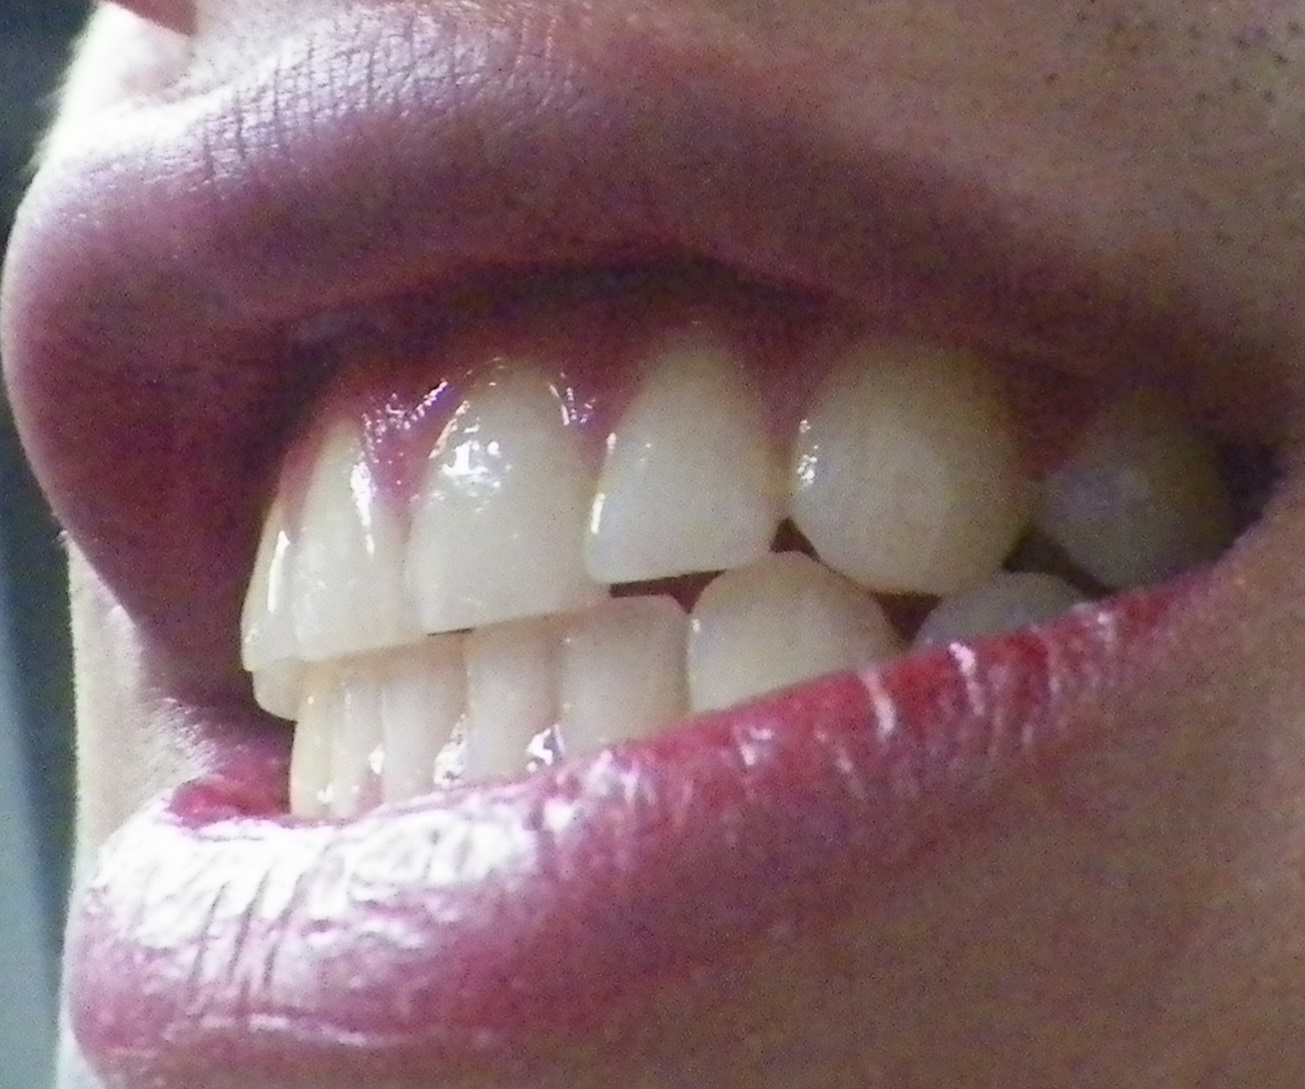boca: (251, 337, 1248, 825)
